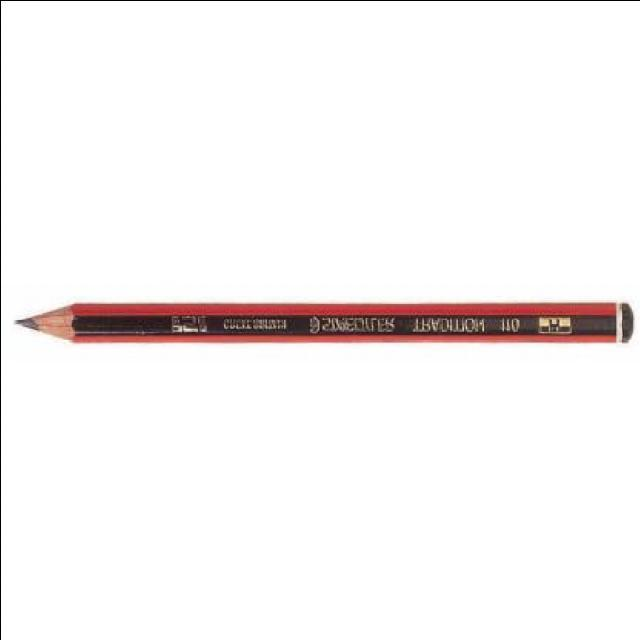Pencil: (8, 282, 90, 356)
